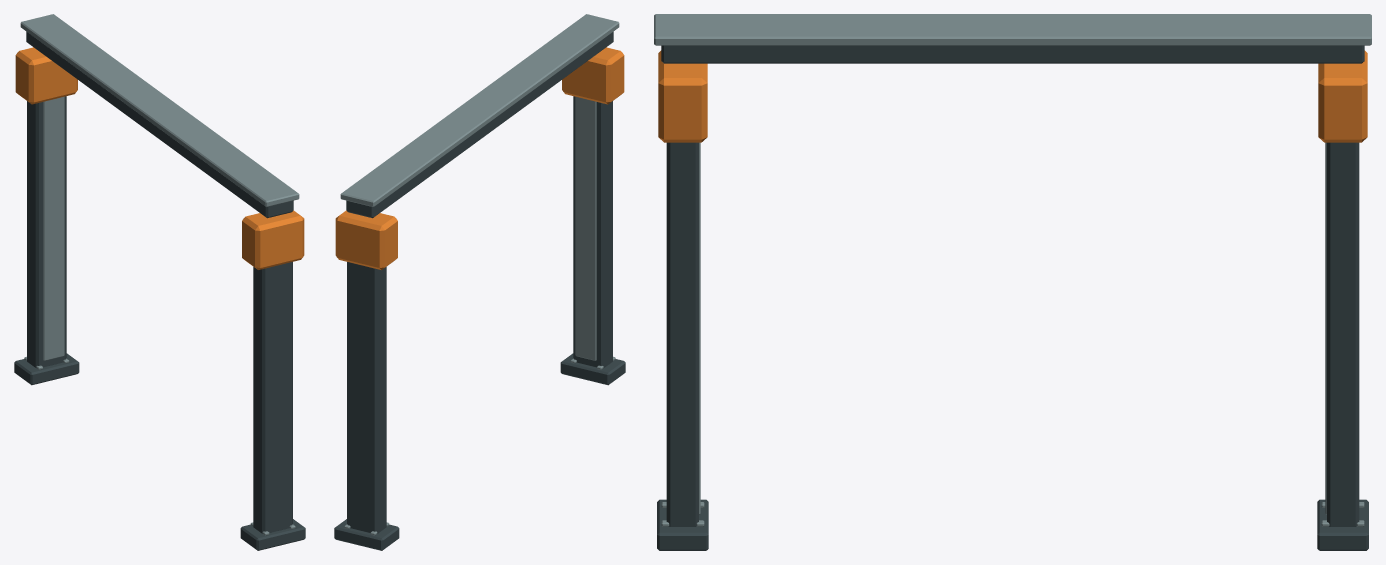
The model's file is w4b-ball-gate-yoke.glb.
3 renders of one model, left to right at view 1: azimuth 30°, elevation 25°; view 2: azimuth 150°, elevation 25°; view 3: azimuth 270°, elevation 25°, orthographic. The views are drawn at different scales.
Visible parts, largest first — view 1: w4b-ball-gate-yoke; view 2: w4b-ball-gate-yoke; view 3: w4b-ball-gate-yoke.
Part boxes in pixels (<box>): w4b-ball-gate-yoke: <box>14,14,305,550</box>; w4b-ball-gate-yoke: <box>334,14,625,550</box>; w4b-ball-gate-yoke: <box>654,14,1371,550</box>.
Bounding box in the file's own units: 0.49 × 3.31 × 4.23.
